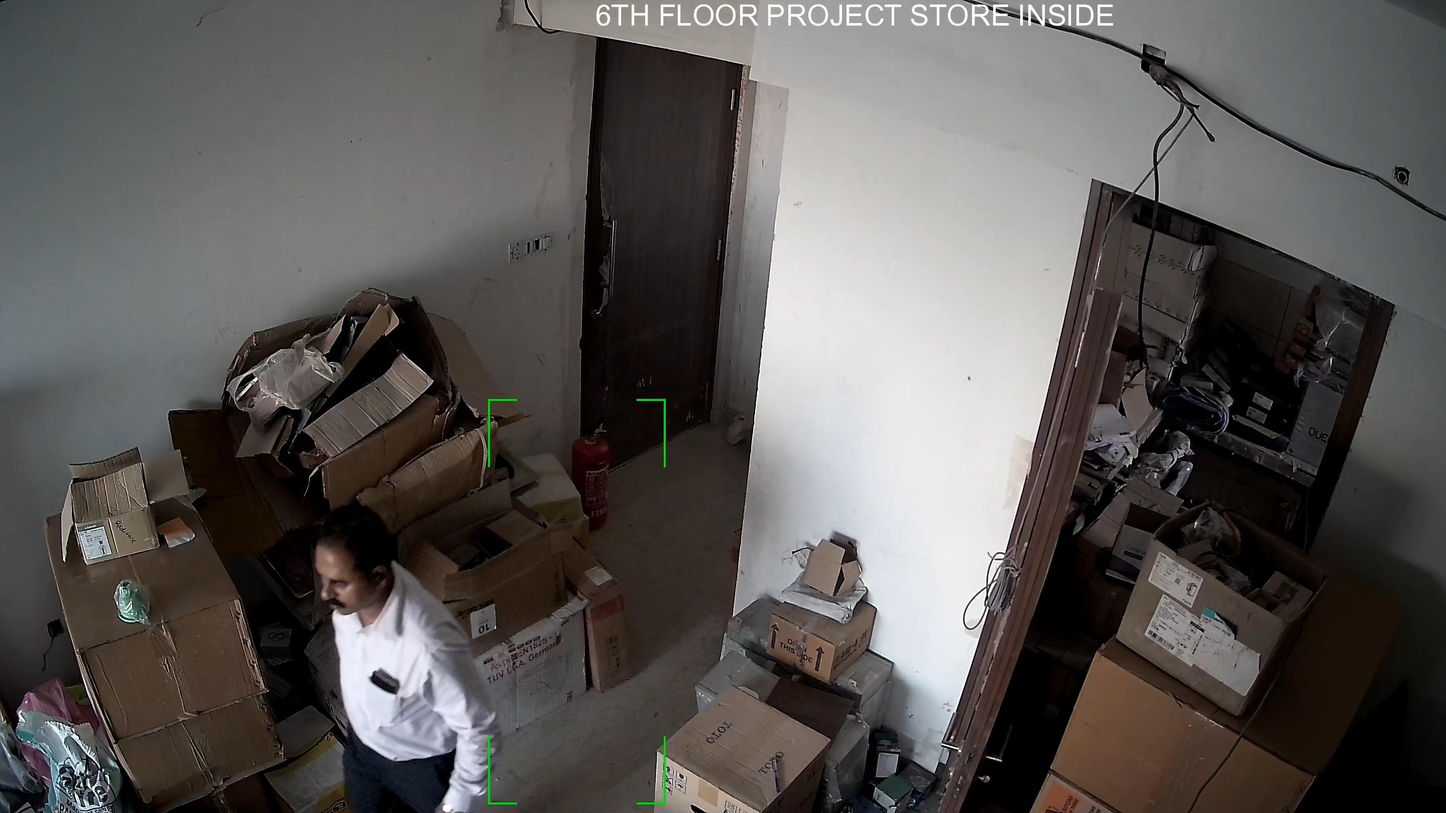Door-Close: (565, 31, 734, 466)
